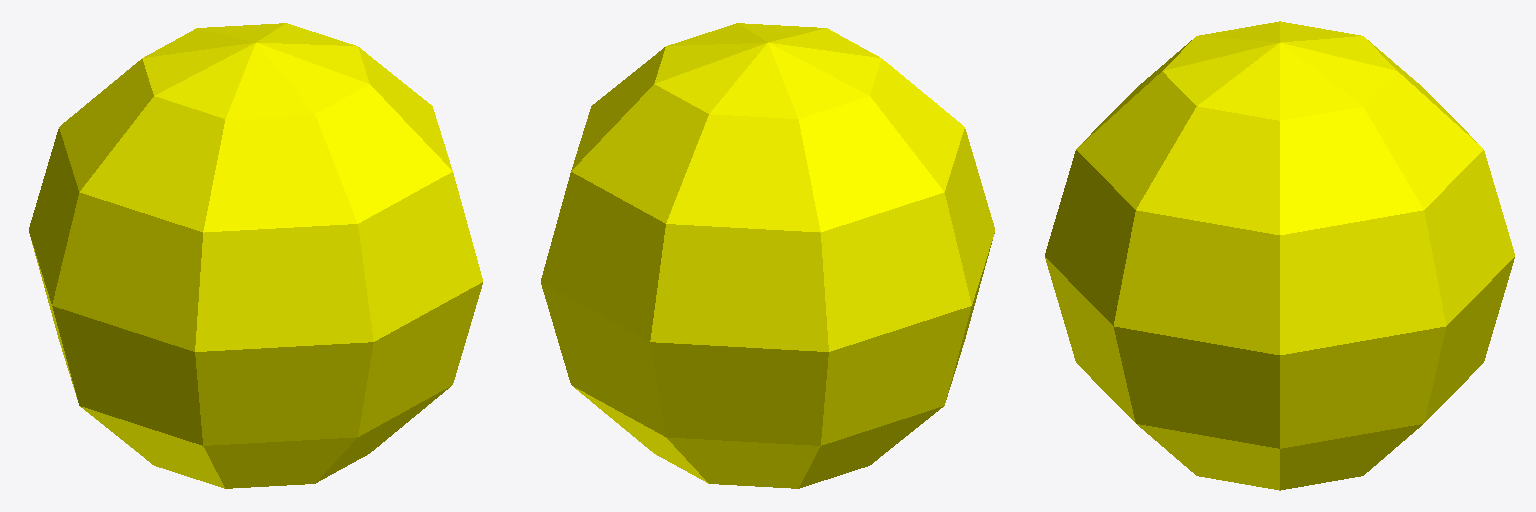
The picture shows the model from 3 angles: view 1: azimuth 30°, elevation 25°; view 2: azimuth 150°, elevation 25°; view 3: azimuth 270°, elevation 25°; orthographic projection.
Parts seen in each view (by area): view 1: fire_bubble_Icosphere; view 2: fire_bubble_Icosphere; view 3: fire_bubble_Icosphere.
Boxes of the visible parts, x1=… form: fire_bubble_Icosphere: x1=29, y1=23, x2=482, y2=488; fire_bubble_Icosphere: x1=541, y1=23, x2=994, y2=488; fire_bubble_Icosphere: x1=1045, y1=21, x2=1514, y2=490.
Size of the model in its own units: 0.1 by 0.1 by 0.1.
Materials: 1 (1 with a texture image).